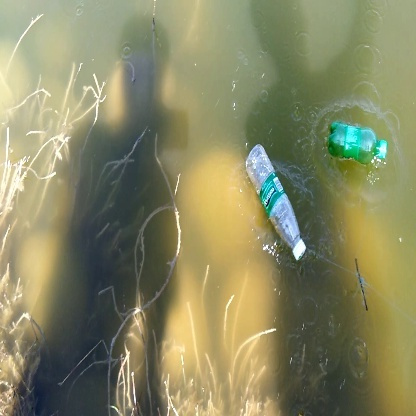bottle: (241, 142, 311, 264)
